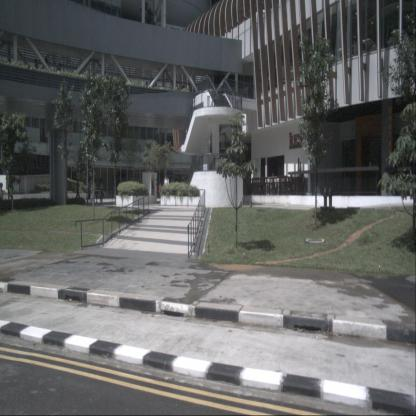human-pedestrian-adult: (164, 175, 170, 203), (92, 178, 98, 205), (74, 178, 80, 204), (87, 178, 92, 205), (100, 178, 104, 205), (0, 182, 3, 210)
